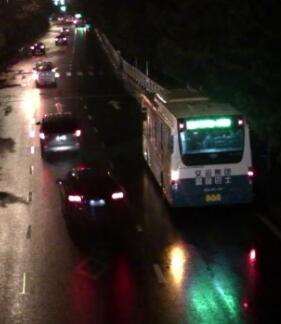bus: (142, 87, 258, 209)
car: (57, 165, 129, 230), (34, 113, 83, 159), (33, 60, 54, 88), (28, 39, 46, 56), (54, 33, 66, 45), (59, 24, 71, 34)
